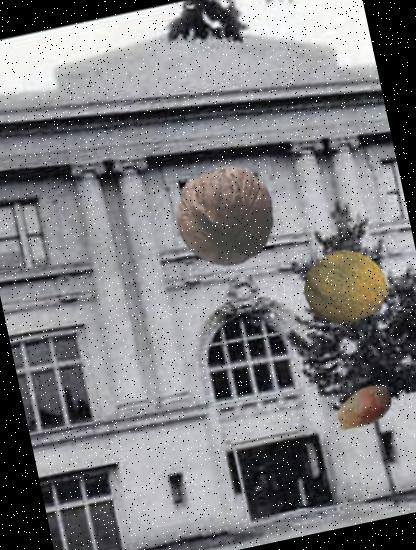Cantaloupe: (297, 239, 395, 337)
Potato: (326, 371, 400, 444)
Walnut: (164, 155, 286, 277)
